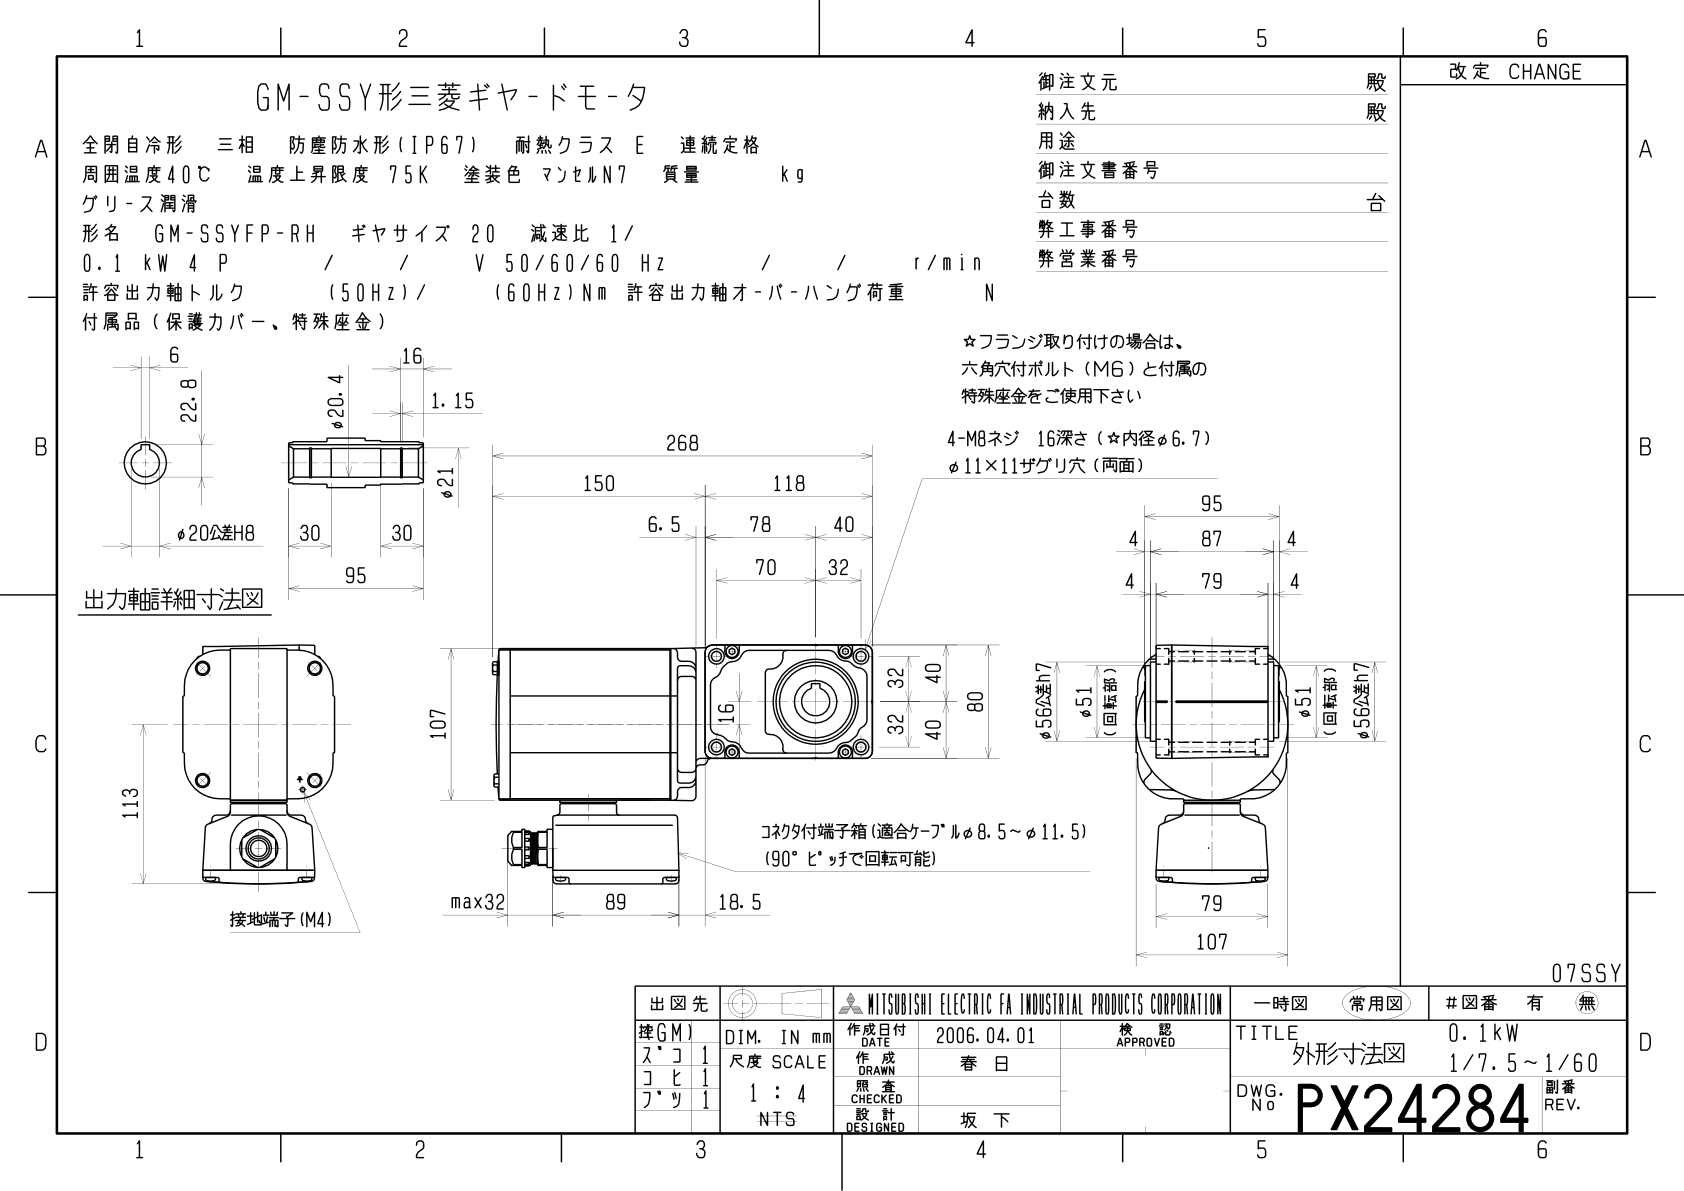GM_SSY_IP67_三相: (70, 335, 1397, 973)
